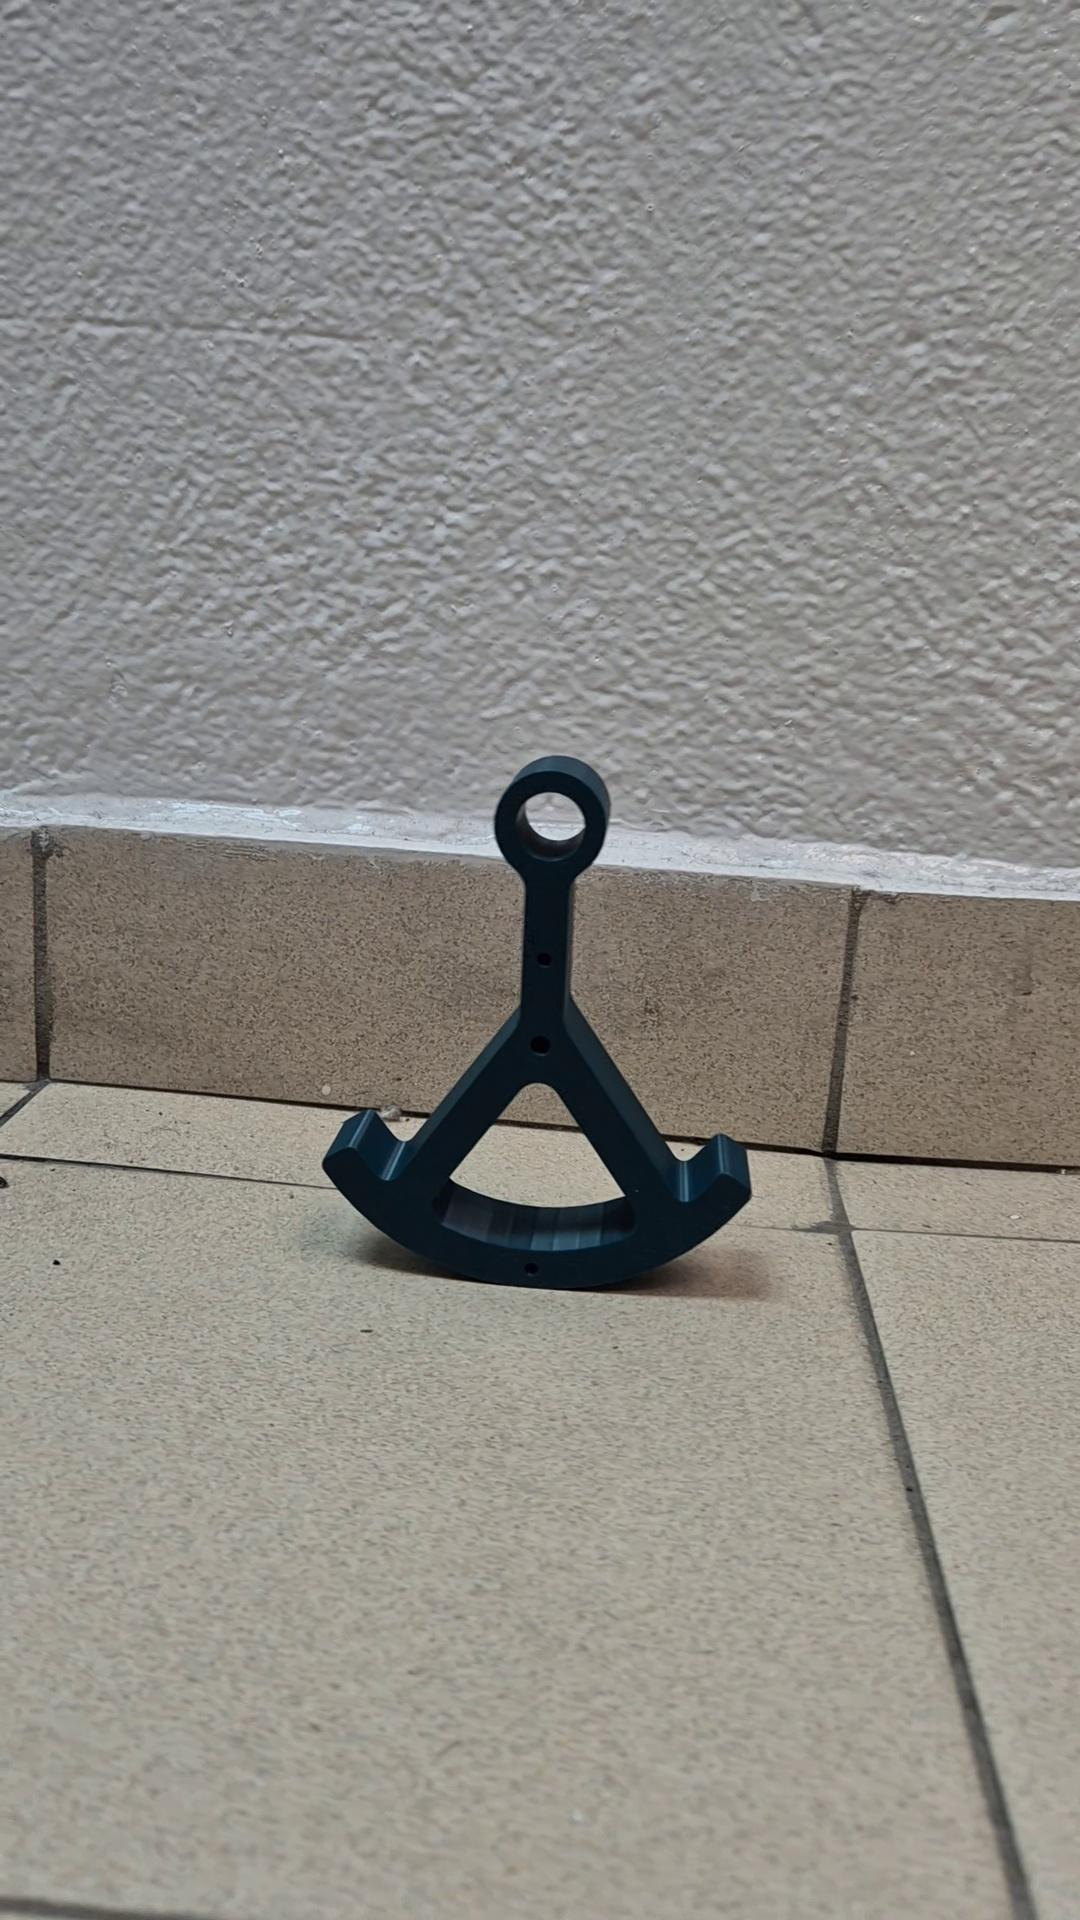Paddles: (319, 750, 756, 1295)
